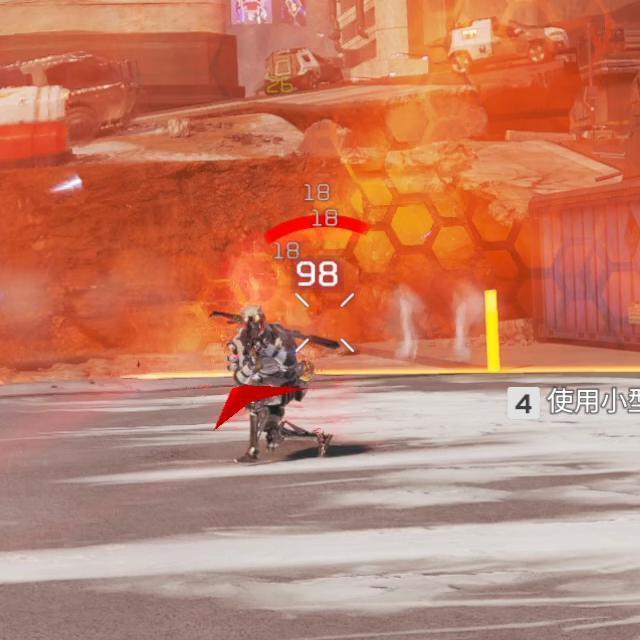avatar: (225, 304, 313, 466)
